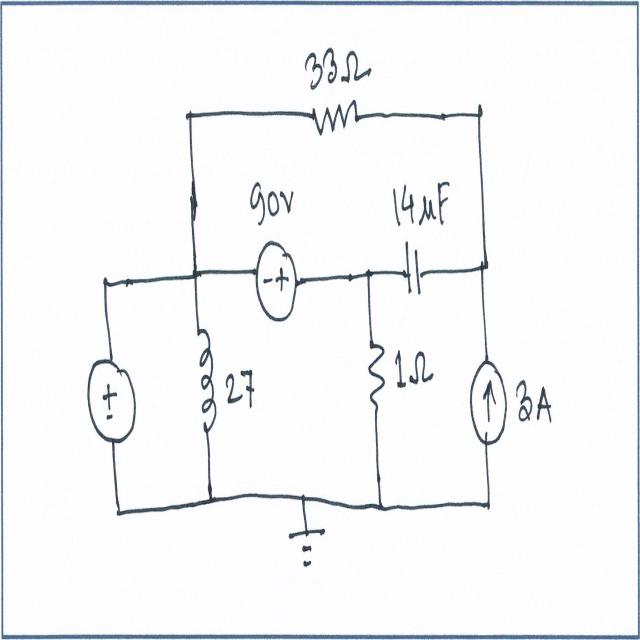capacitor: (404, 234, 424, 303)
current_source: (468, 344, 508, 454)
ground: (284, 522, 330, 582)
inductor: (194, 320, 217, 439)
resistor: (309, 99, 362, 144), (365, 335, 389, 428)
voltage_source: (85, 355, 138, 449), (251, 242, 301, 328)
